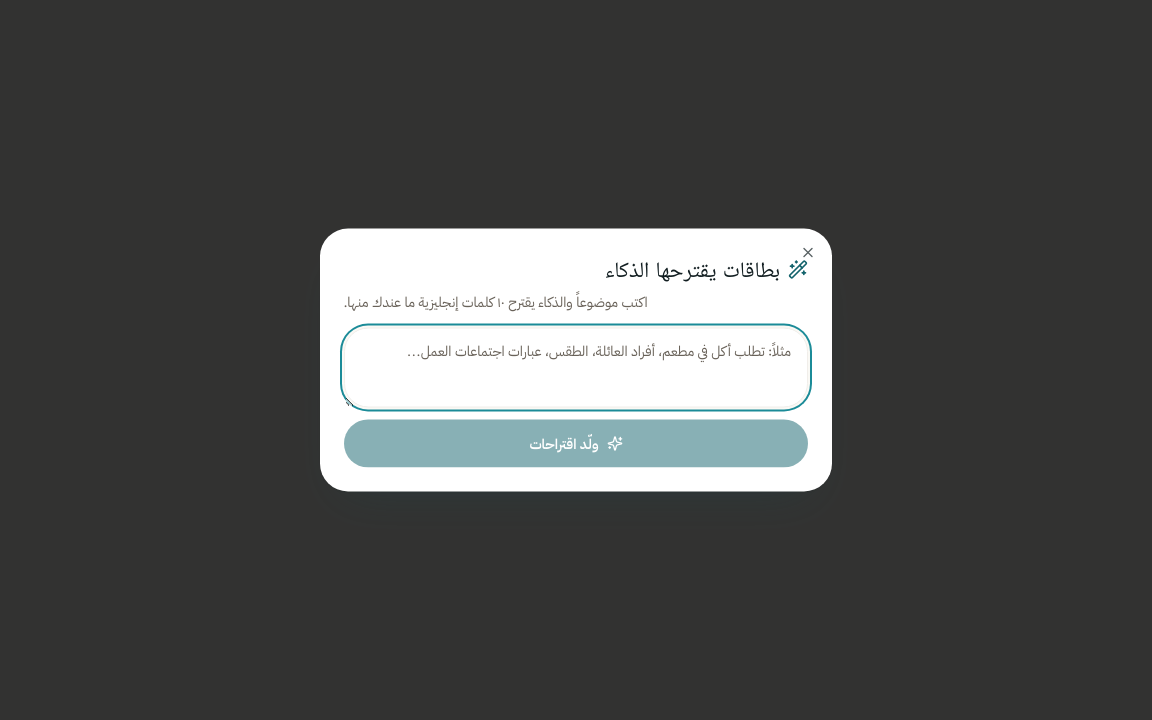
it: choosing from the suggestions › offers nothing to save once everything is unticked
This screenshot has width=1152, height=720.
Replace the text in the text box with placeholder "تطلب أكل في مطعم" with "ordering food" at (576, 368), box [344,328,808,408]
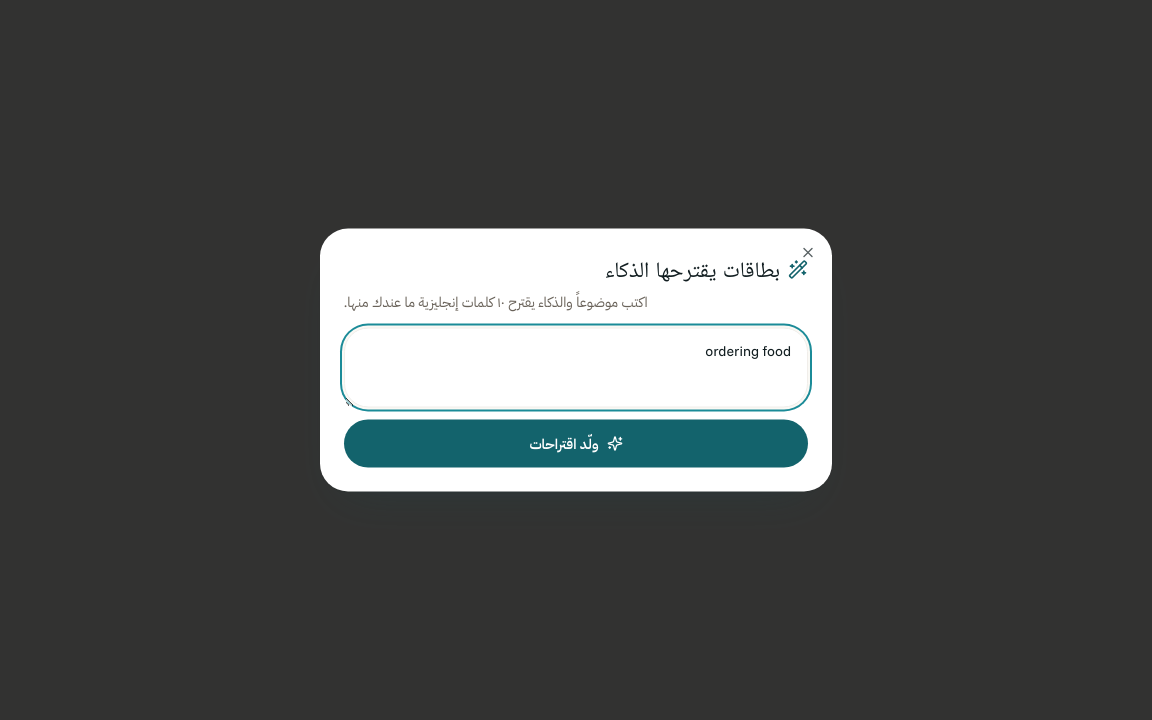
Click the button "ولّد اقتراحات" at (576, 444), box [344,420,808,468]
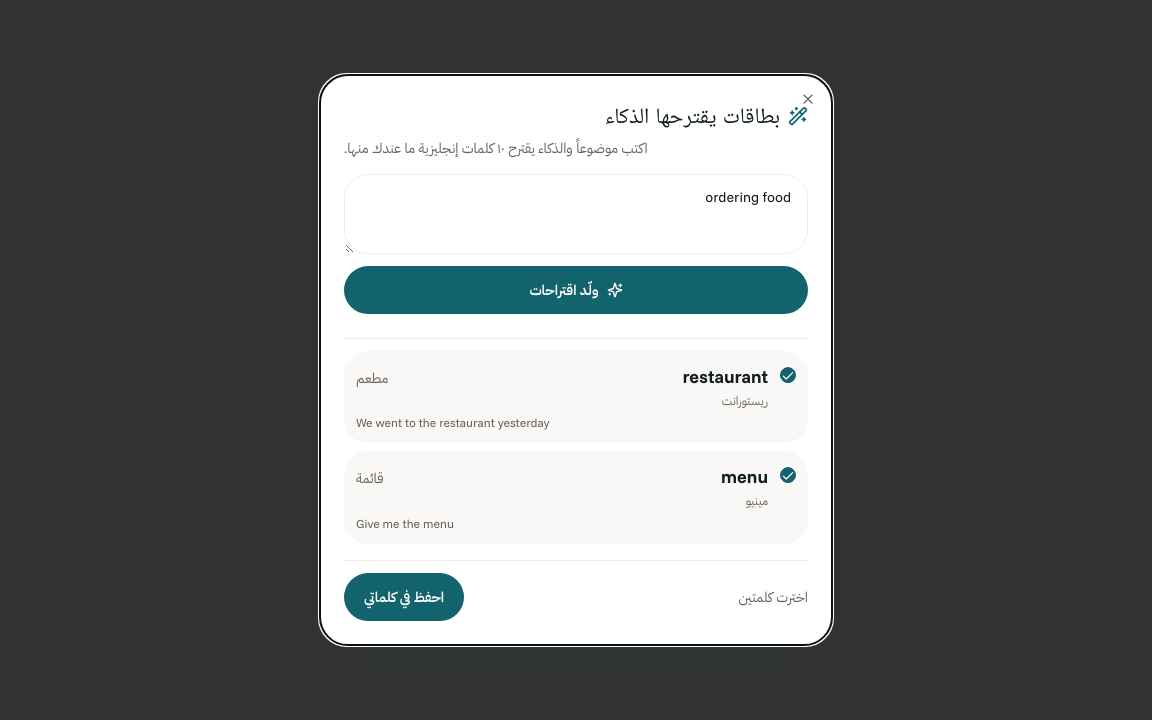
Click the checkbox in the row of "مطعم" at (788, 375), box [780,367,796,383]
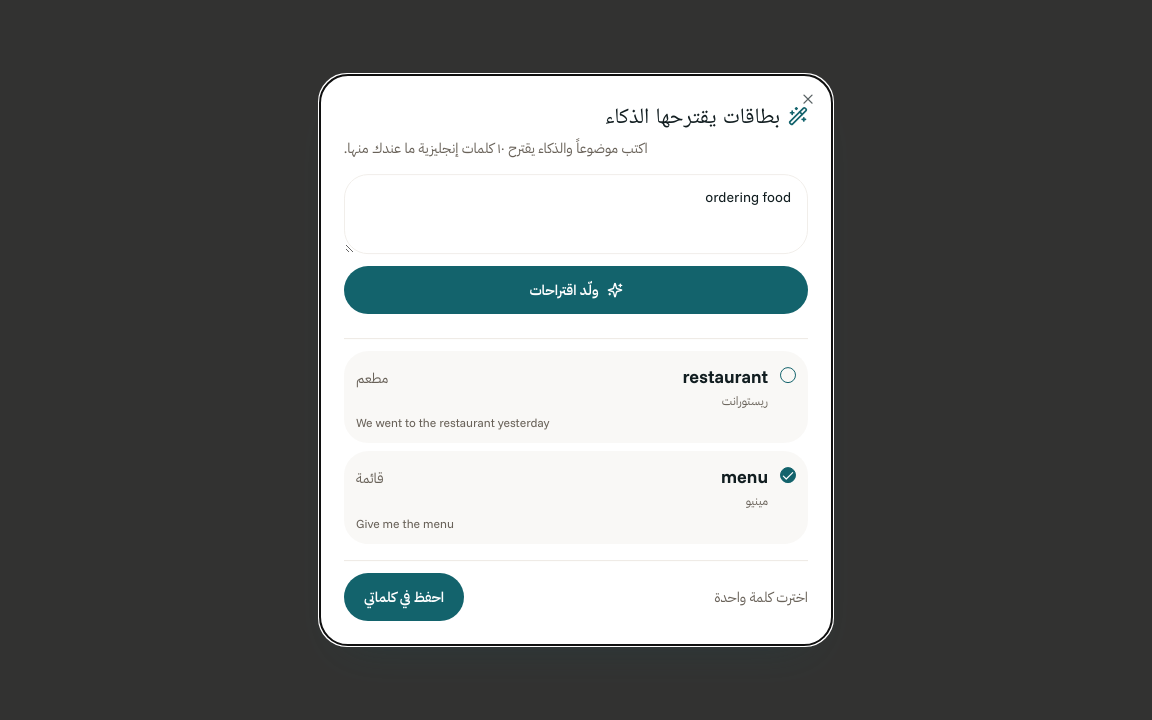
Click the checkbox in the row of "قائمة" at (788, 476), box [780,468,796,484]
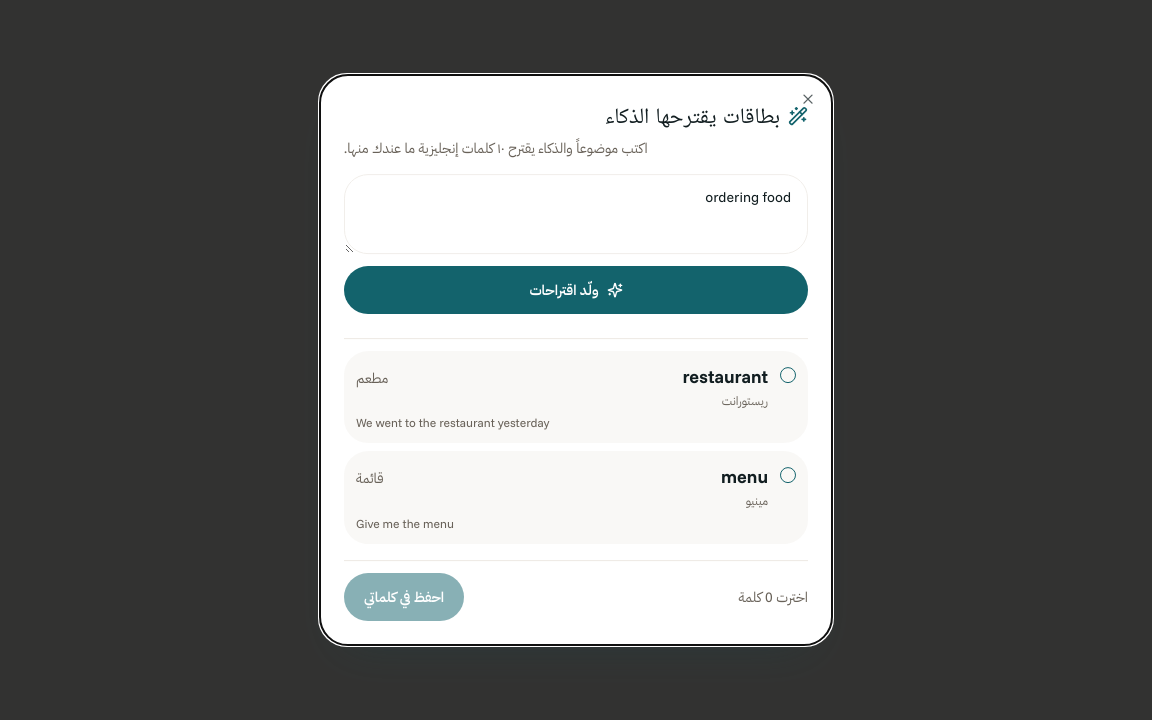
Result: the button "احفظ في كلماتي" is disabled at [344,573,464,621]
